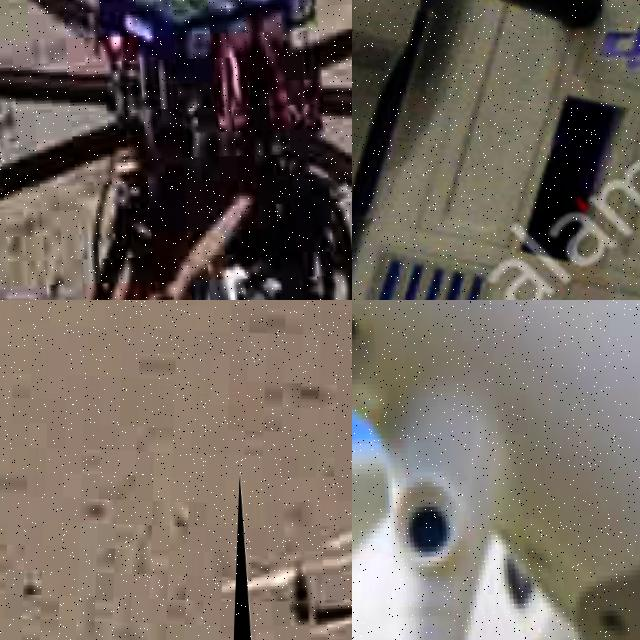drone: (0, 0, 352, 300), (352, 300, 640, 640), (352, 0, 640, 300), (228, 472, 352, 640)
